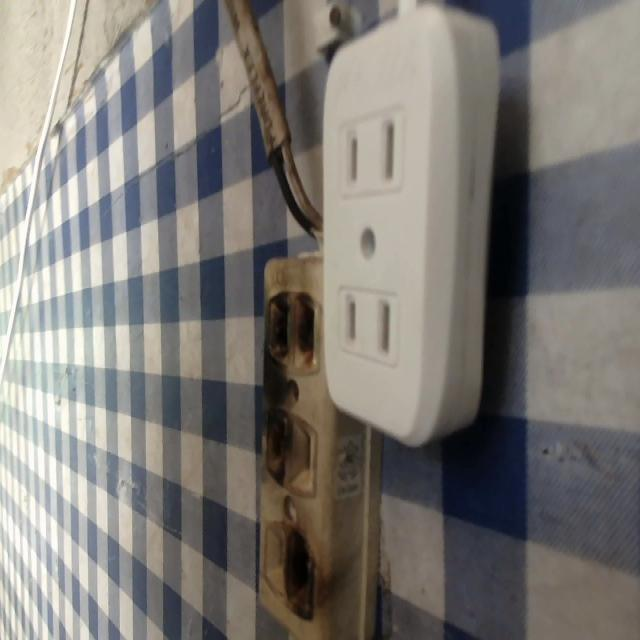-: (263, 288, 323, 375), (255, 399, 300, 492), (280, 530, 323, 622)
